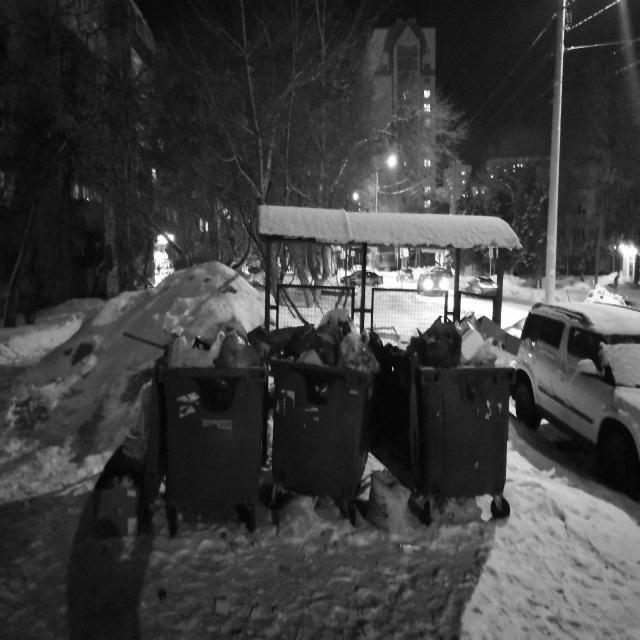Trashcan: (380, 290, 530, 533), (145, 287, 277, 542), (261, 286, 393, 534)
